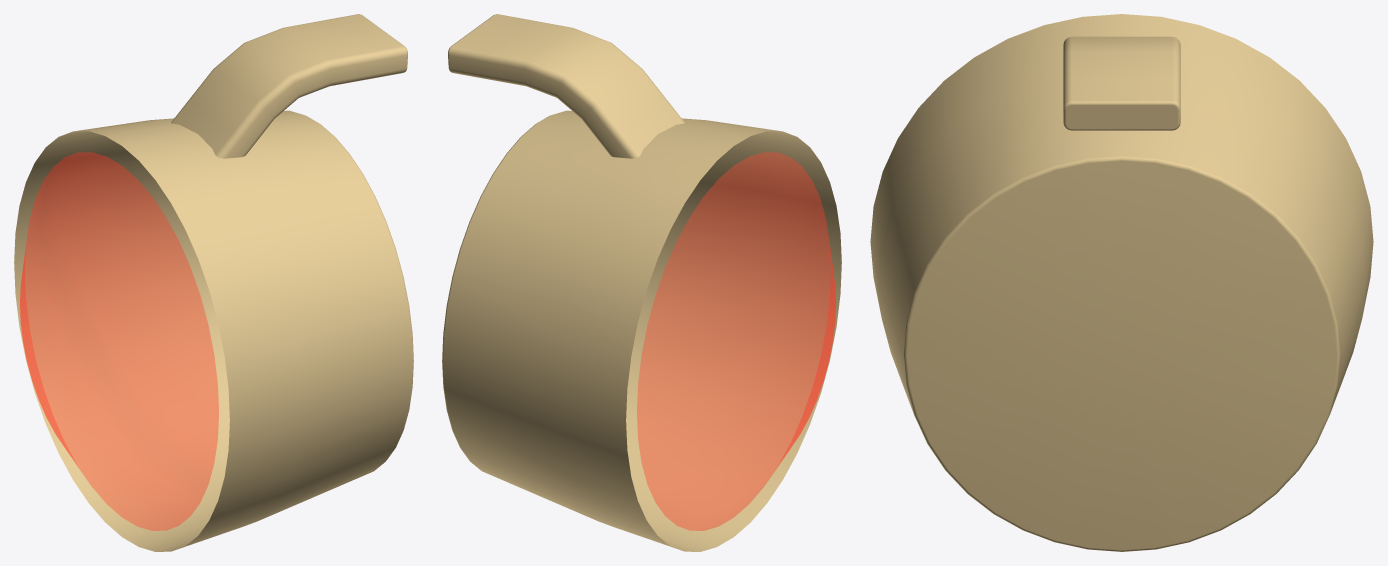
The model's file is bike_vintage_vtwin__tail_light.glb.
3 renders of one model, left to right at view 1: azimuth 30°, elevation 25°; view 2: azimuth 150°, elevation 25°; view 3: azimuth 270°, elevation 25°, orthographic. The views are drawn at different scales.
Parts seen in each view (by area): view 1: electrical__tail_light, electrical__tail_light__lens; view 2: electrical__tail_light, electrical__tail_light__lens; view 3: electrical__tail_light.
Boxes of the visible parts, x1,y1,x2,y2 form: electrical__tail_light: (14,14,413,551); electrical__tail_light__lens: (20,152,218,530); electrical__tail_light: (442,14,841,551); electrical__tail_light__lens: (637,152,835,530); electrical__tail_light: (870,14,1373,551).
Size of the model in its own units: 5.01 by 6.87 by 6.
